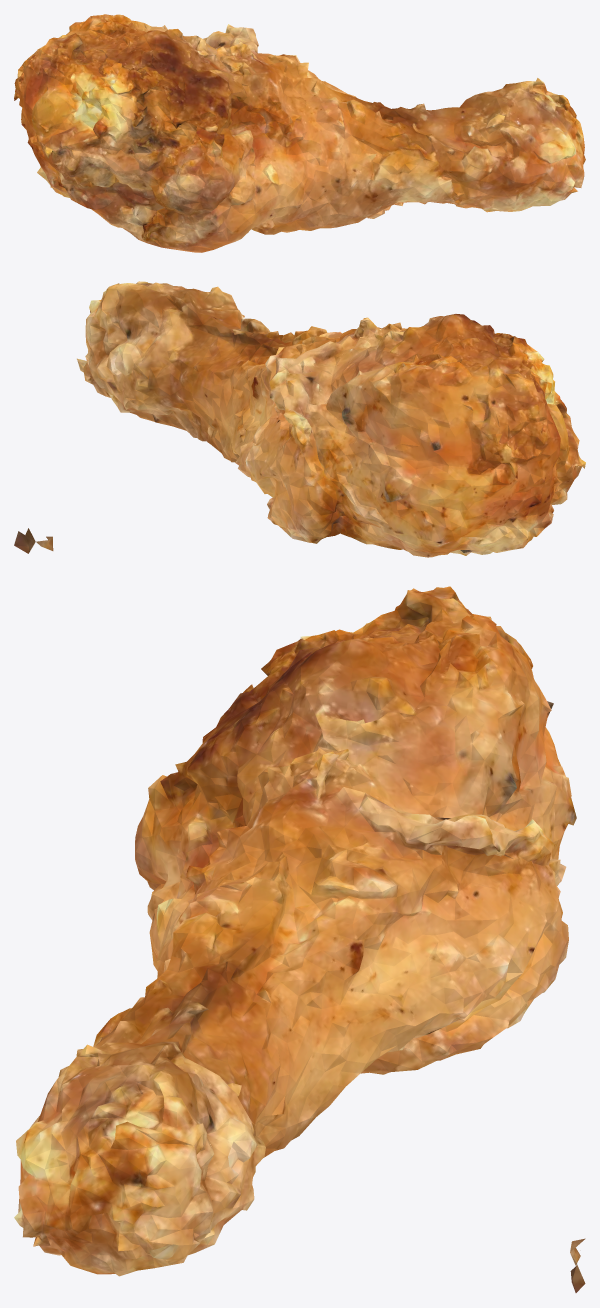
Rendered from leg.glb.
3 views of the same model, one above another, from view 1: azimuth 30°, elevation 25°; view 2: azimuth 150°, elevation 25°; view 3: azimuth 270°, elevation 25° (orthographic). The views are drawn at different scales.
Visible parts, largest first — view 1: Object_4; view 2: Object_4, Object_6; view 3: Object_4.
Boxes of the visible parts, box(x1,y1,x2,y2) form: Object_4: box(14, 14, 585, 252); Object_4: box(77, 281, 585, 557); Object_6: box(14, 528, 53, 553); Object_4: box(14, 586, 576, 1276).
Size of the model in its own units: 0.14 by 0.0621 by 0.0817.
2 materials, 2 textured.
